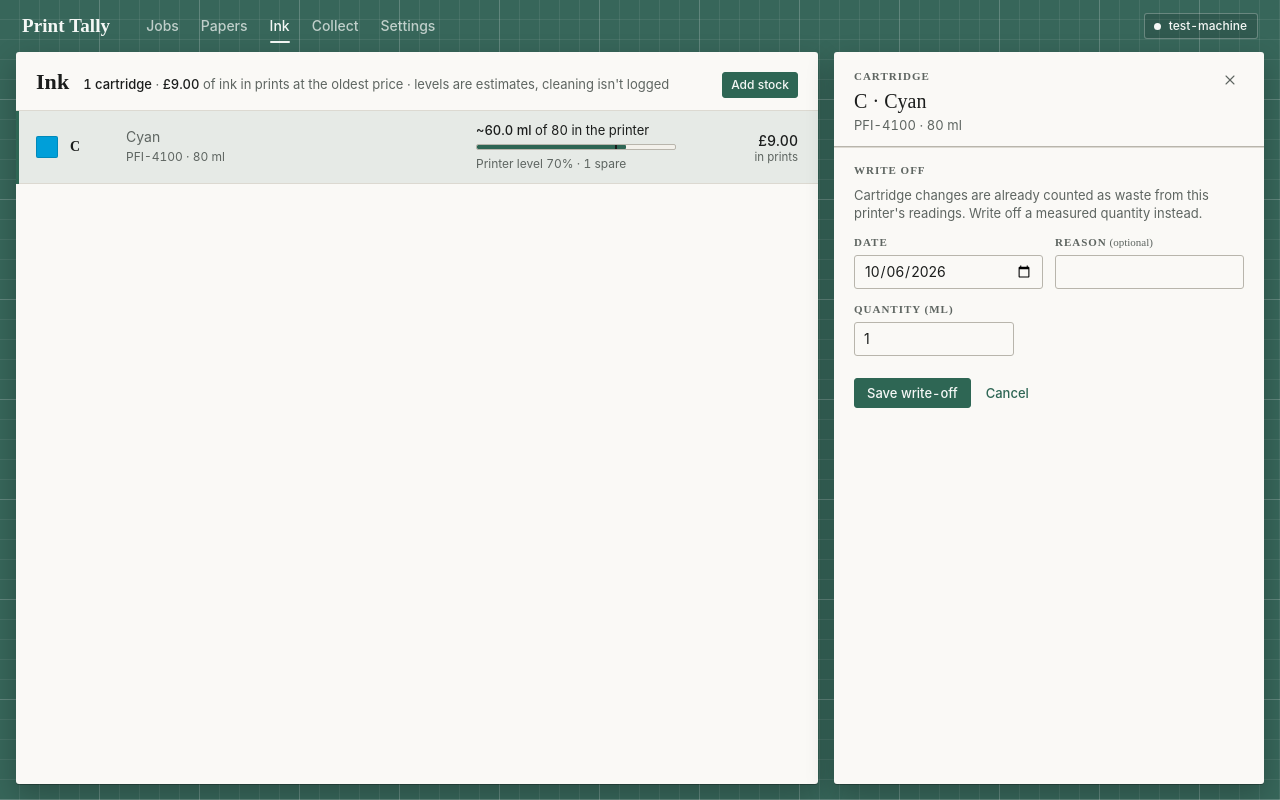
Test: reading-mode write-off offers only measured quantity and does not request all-remaining preview
Expected: the text "Cartridge changes are already counted as waste" is shown, [854,187,1209,221]
Replace the text in the number field labelled "Quantity (ml)" with "1.25" at [934, 339], box [854,322,1014,356]
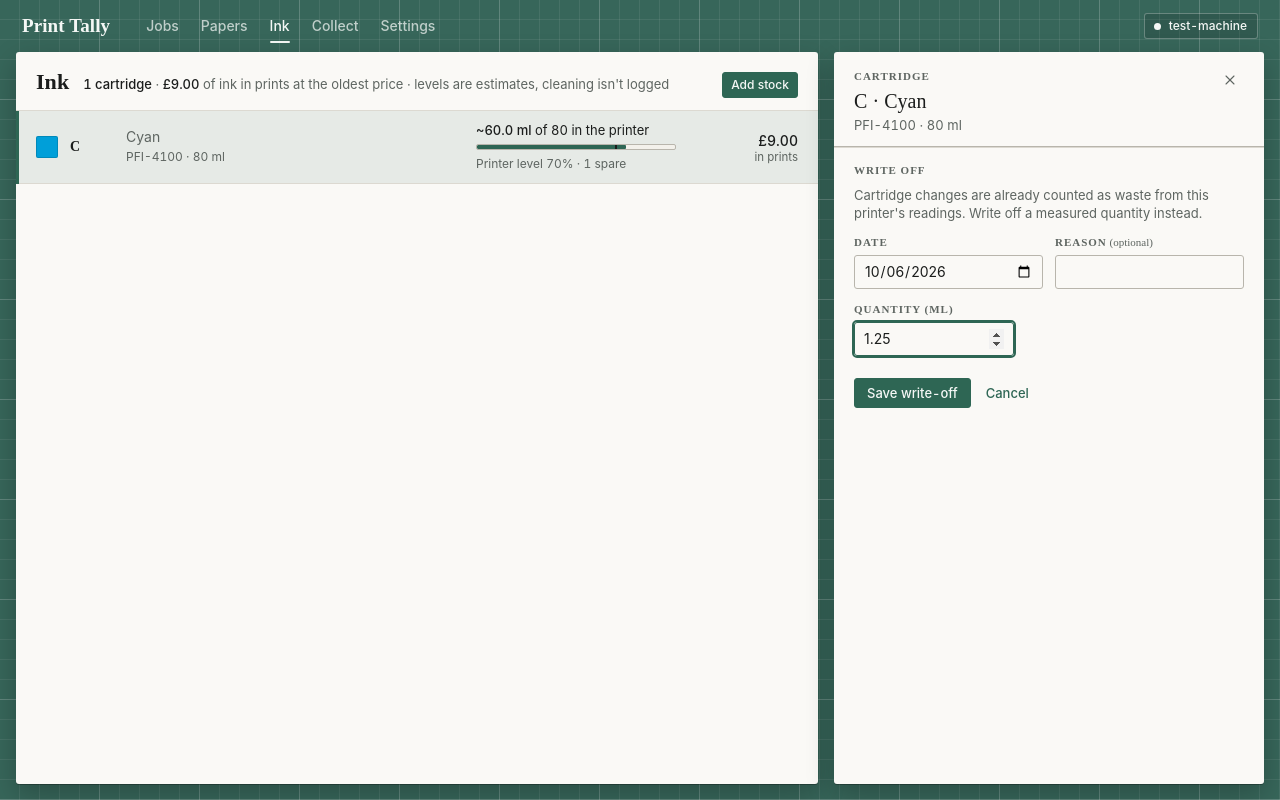
Click the button "Save write-off" at [912, 393], box [854,378,971,408]
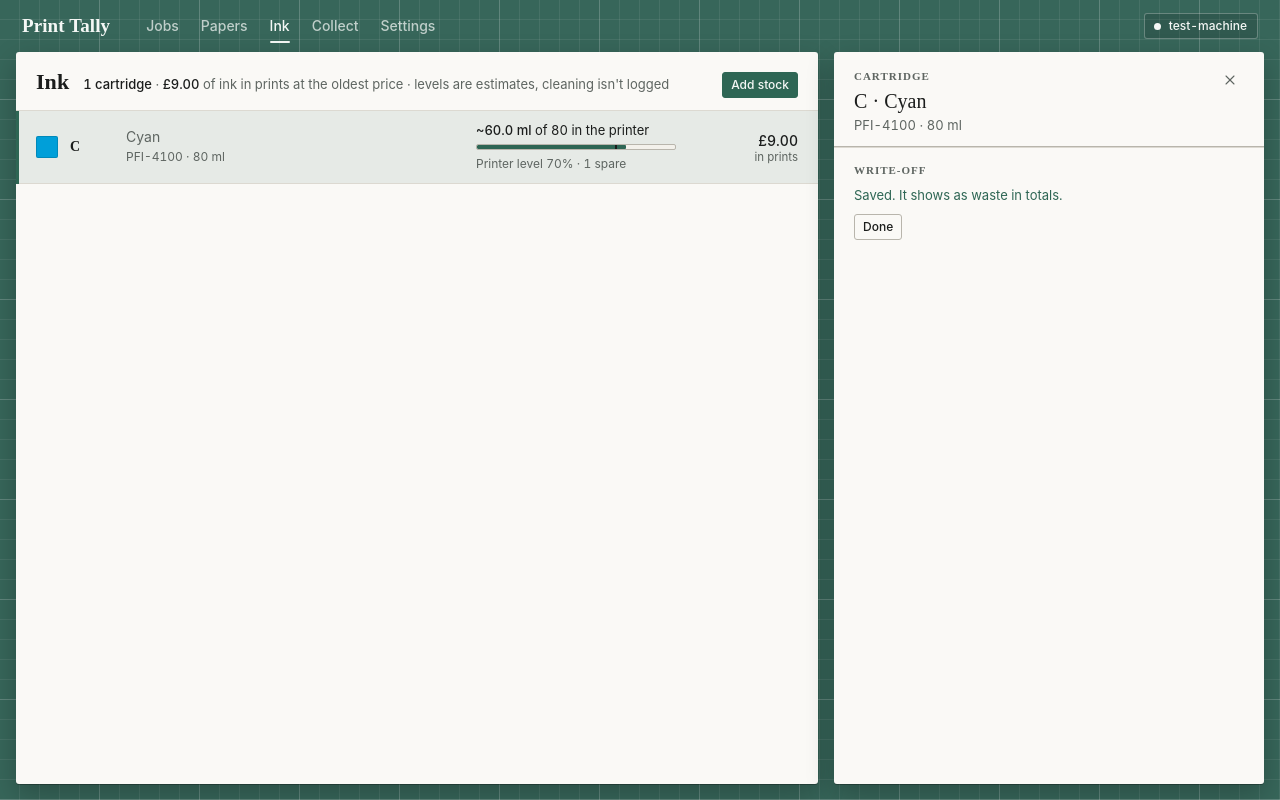
Expected: the text "Saved. It shows as waste in totals." is shown, [854,187,1063,203]
